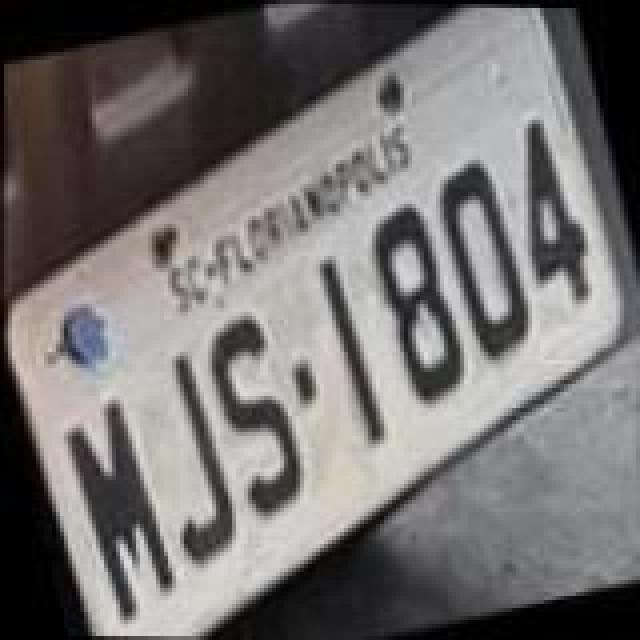1: (310, 244, 398, 448)
4: (490, 110, 606, 314)
8: (358, 192, 478, 408)
J: (134, 352, 250, 576)
M: (42, 384, 186, 632)
O: (424, 146, 544, 358)
S: (196, 308, 316, 524)
